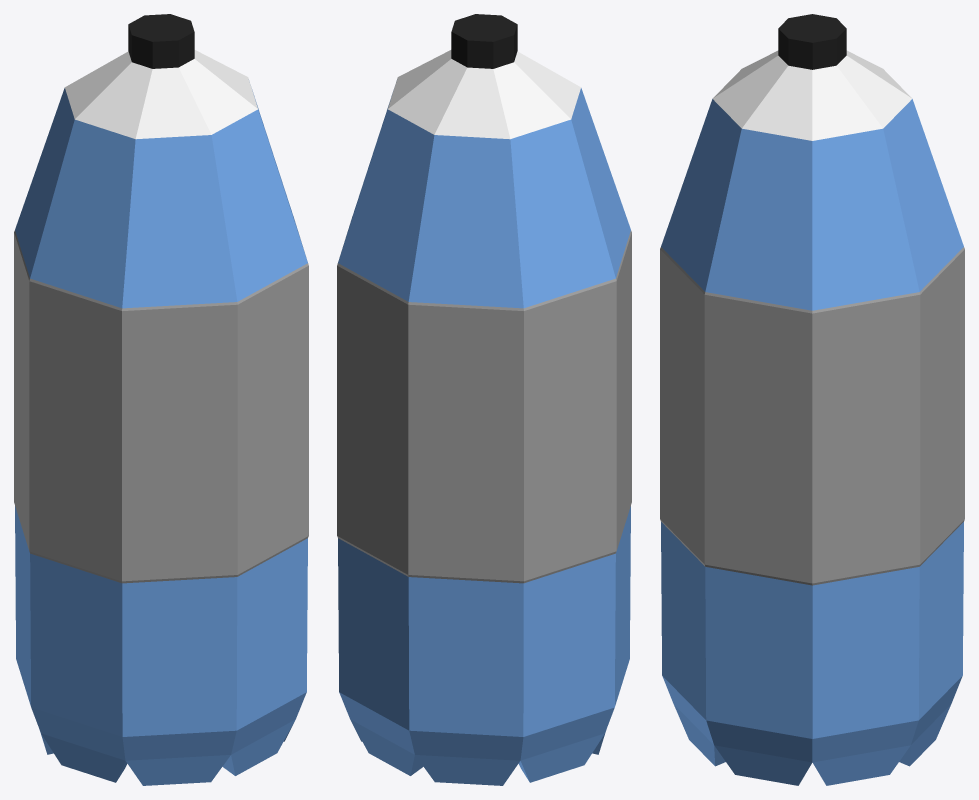
Rendered from waterbottle.gltf.
3 views of the same model, side by side, from view 1: azimuth 30°, elevation 25°; view 2: azimuth 150°, elevation 25°; view 3: azimuth 270°, elevation 25° (orthographic).
Visible parts, largest first — view 1: Cube; view 2: Cube; view 3: Cube.
Boxes of the visible parts, <box> form: Cube: <box>14,14,308,785</box>; Cube: <box>337,14,631,785</box>; Cube: <box>660,14,964,785</box>.
Size of the model in its own units: 1.78 by 4.55 by 1.78.
Materials: 1 (1 with a texture image).
